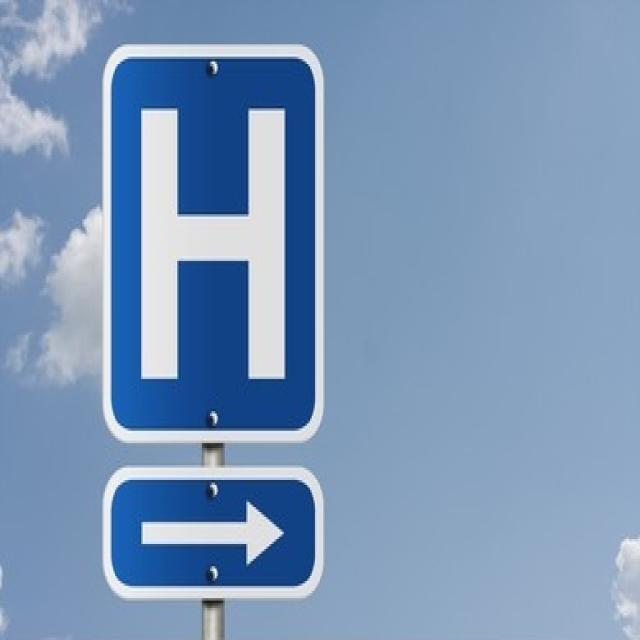hospital ahead: (106, 42, 324, 440)
